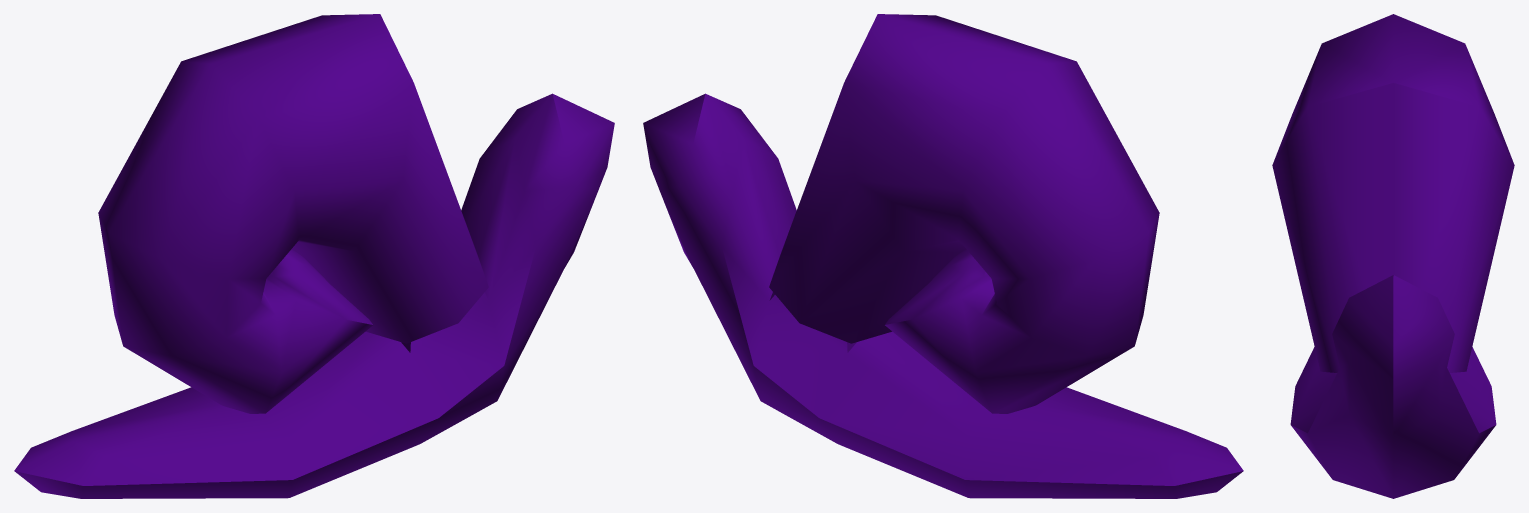
File: slow.fbx
3 views of the same model, side by side, from view 1: azimuth 30°, elevation 25°; view 2: azimuth 150°, elevation 25°; view 3: azimuth 270°, elevation 25° (orthographic). The views are drawn at different scales.
Visible parts, largest first — view 1: Torus; view 2: Torus; view 3: Torus.
Part boxes in pixels (<box>): Torus: <box>14,14,614,498</box>; Torus: <box>643,14,1243,498</box>; Torus: <box>1272,14,1514,498</box>.
Bounding box in the file's own units: 242 × 167 × 90.57.
